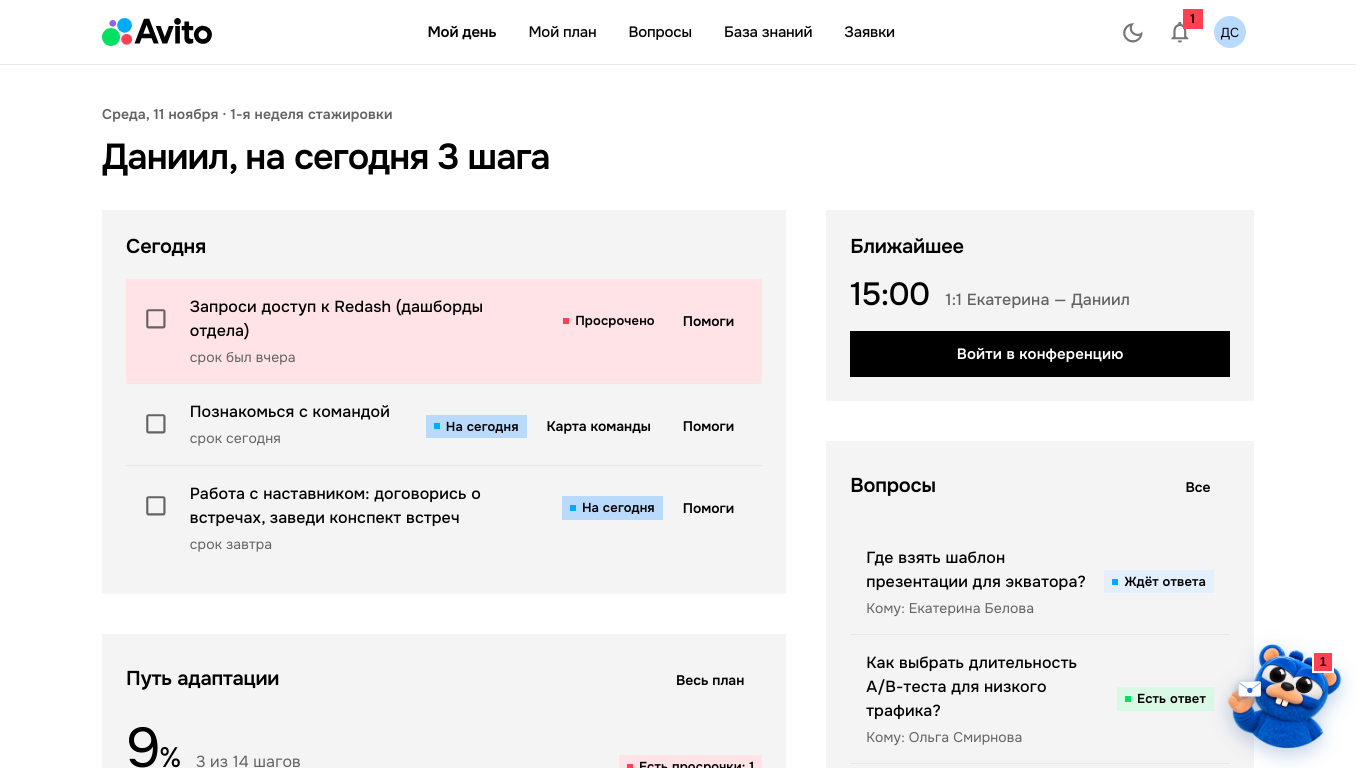
Scenario: стажёр › отменяет черновик — отмена сохраняется на сервере
expect the heading "Даниил, на сегодня 3 шага" is shown: met, box [102,137,550,178]
Click the button named "Открыть чат с Напарником" at coordinates (1284, 695), box [1227,643,1342,748]
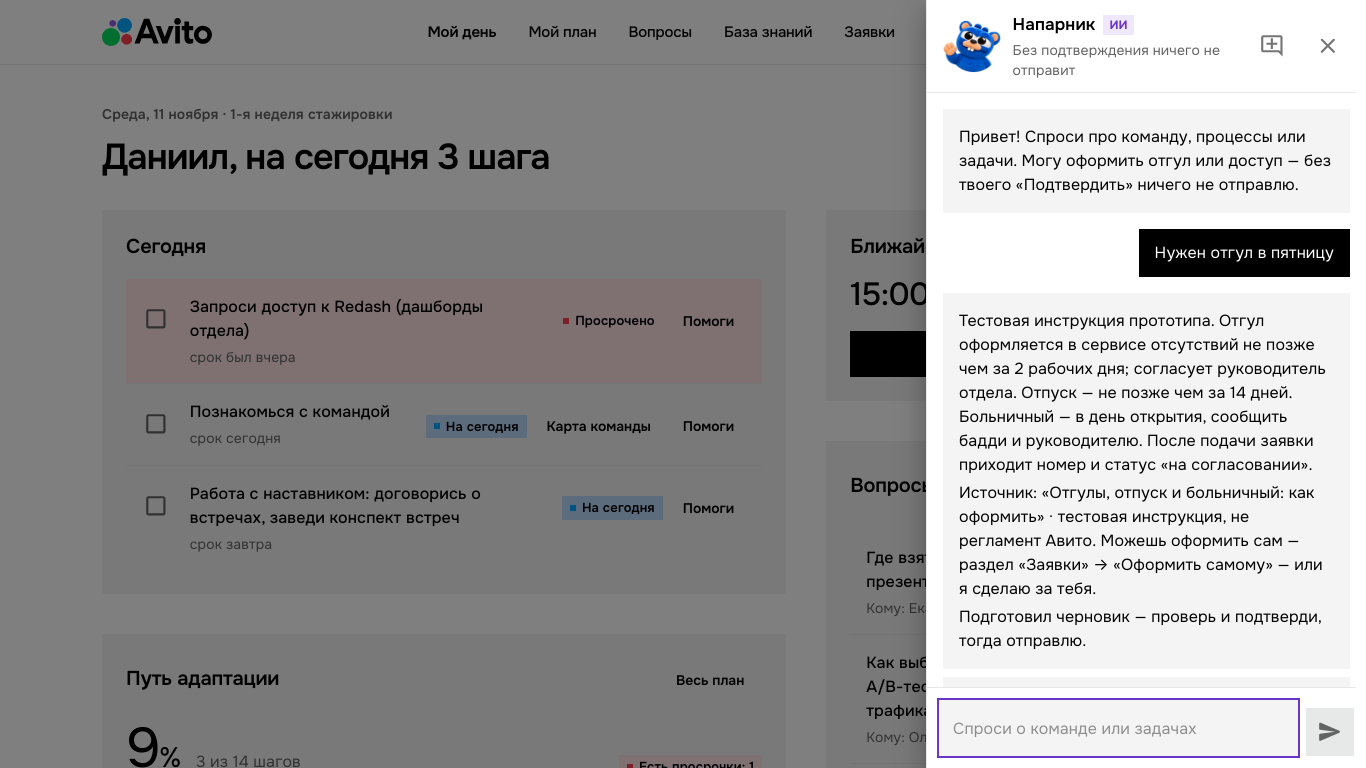
Type "Нужен отгул" into the text box with placeholder "Спроси о команде или задачах" at coordinates (1118, 728), box [953,716,1284,740]
Then press Enter
(page scrolled)
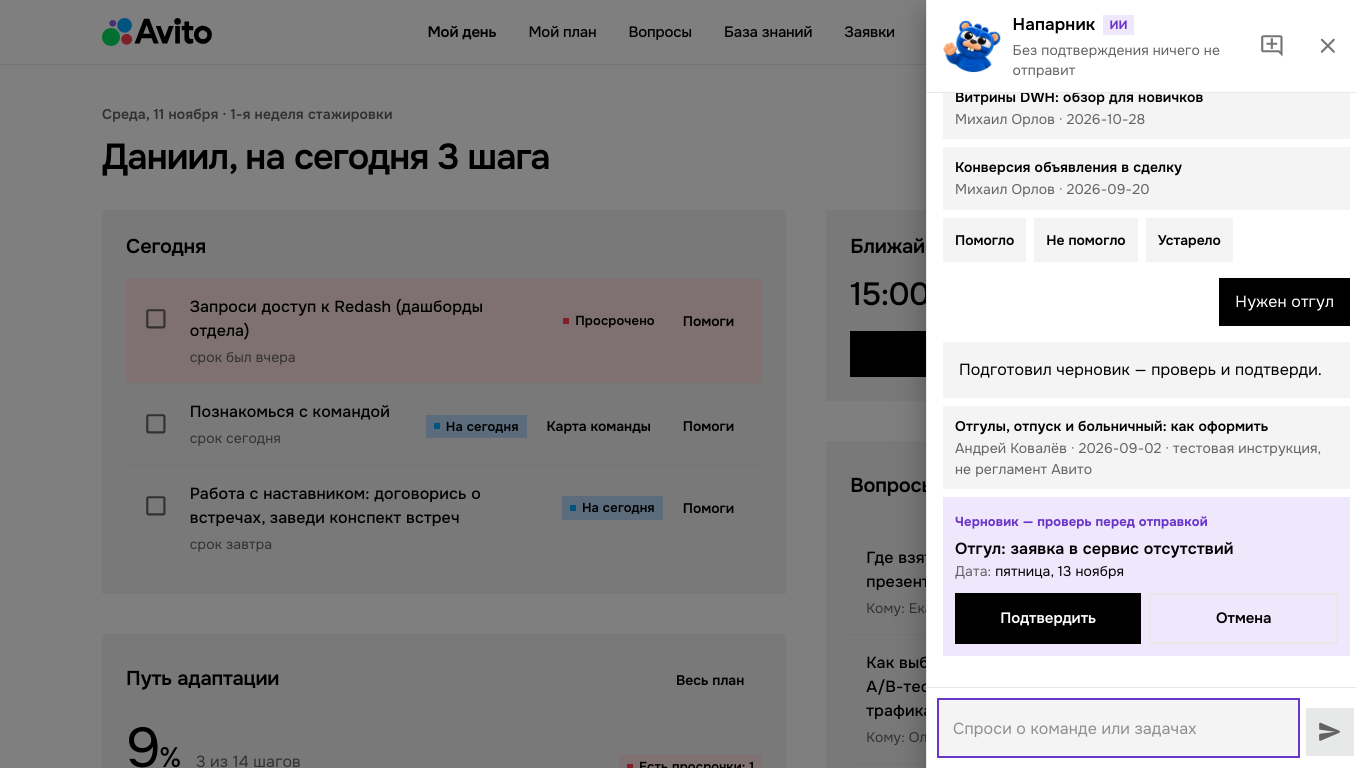
expect the text "Подготовил черновик — проверь и подтверди." is shown: met, box [959,358,1334,382]
Click the button "Отмена" at coordinates (1244, 618), box [1149,593,1338,644]
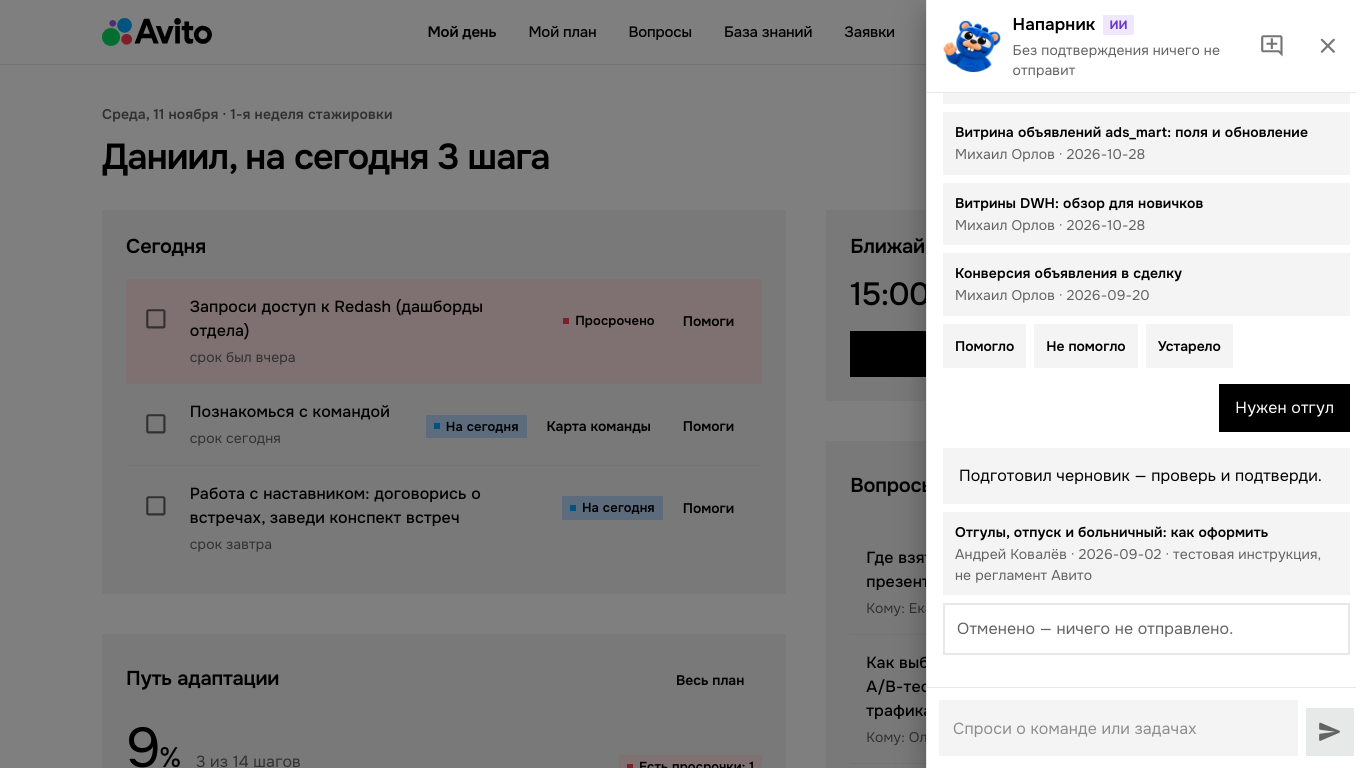
expect the text "Отменено — ничего не отправлено." is shown: met, box [957,618,1234,639]
